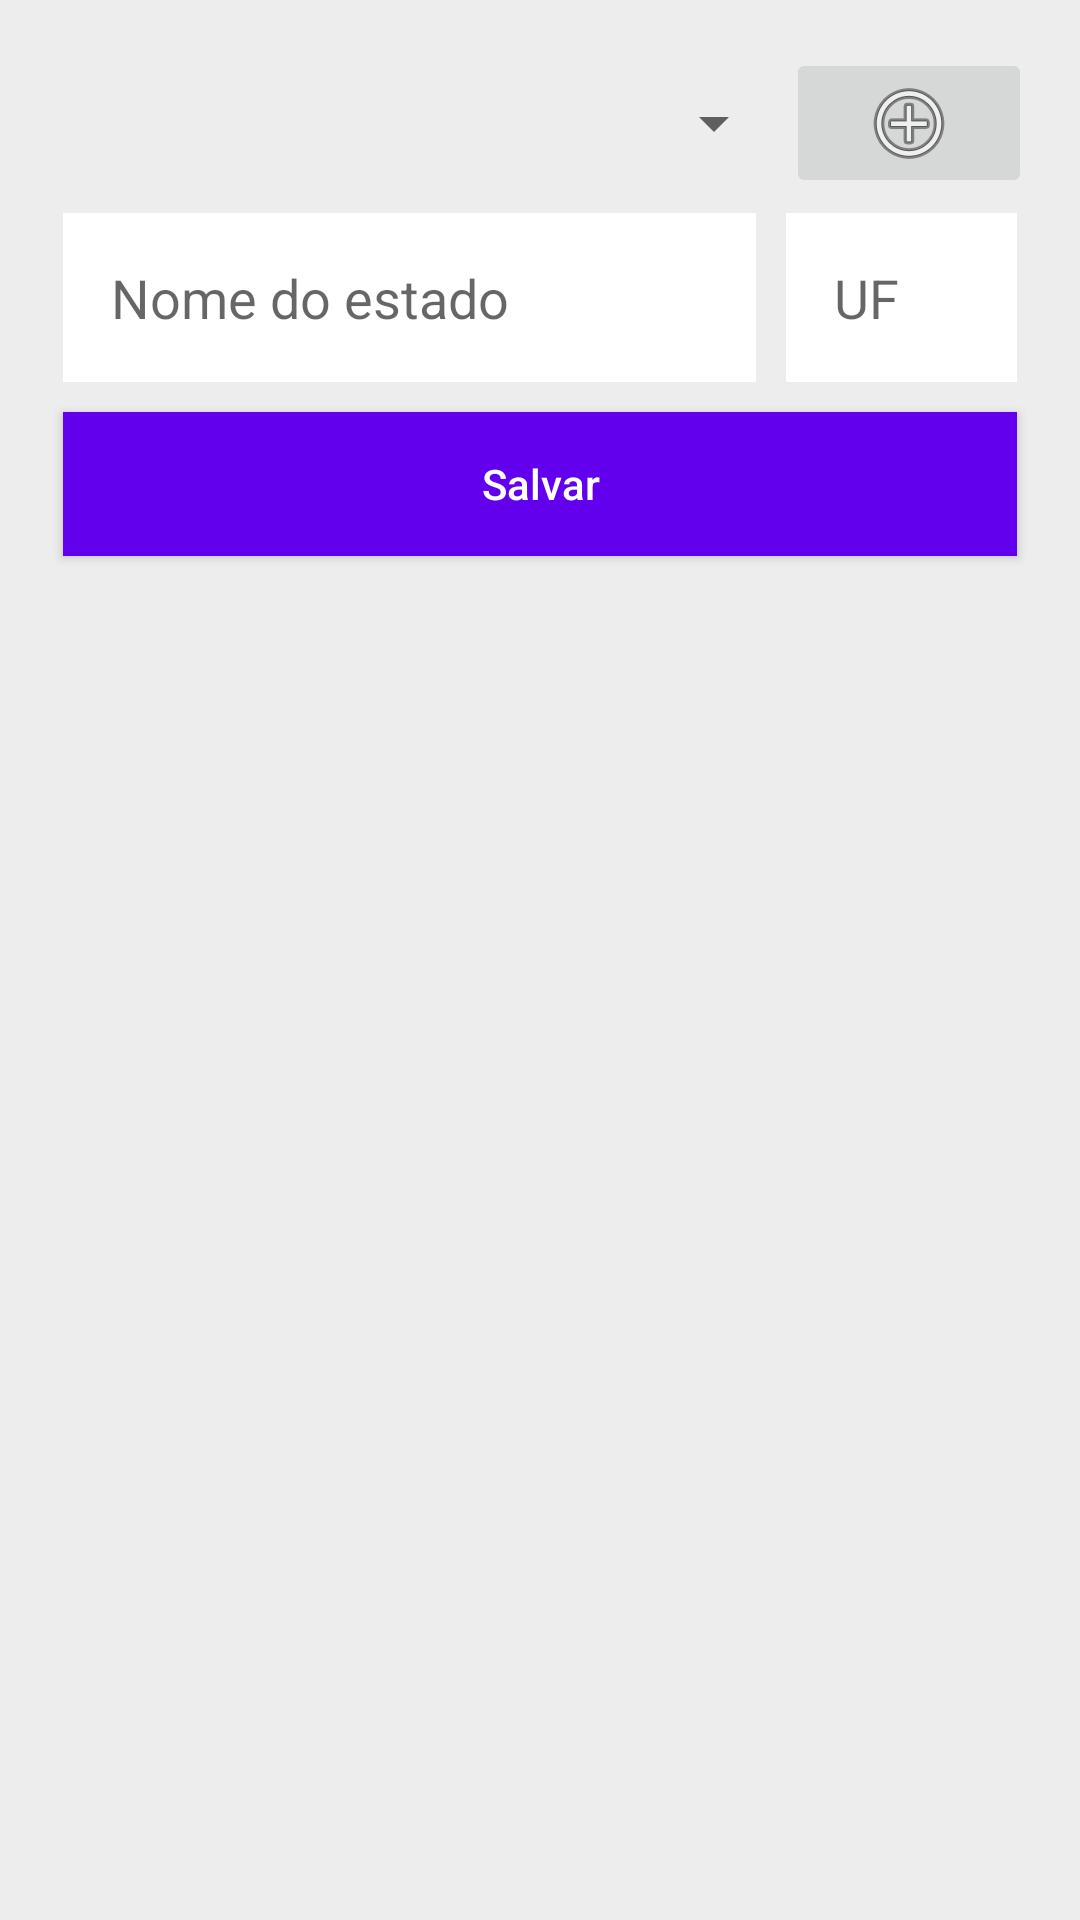

Locate icon controls on the screen. Image size 1080px×1920px, boxes as (x1, y1, x2, y2).
add: (798, 66, 1020, 180)
